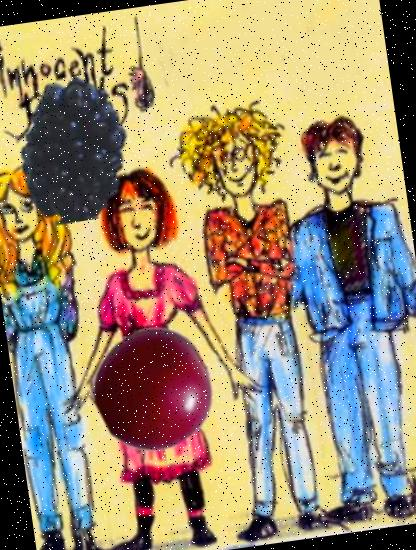Cherry: (85, 320, 224, 460)
Mulberry: (0, 67, 158, 231)
